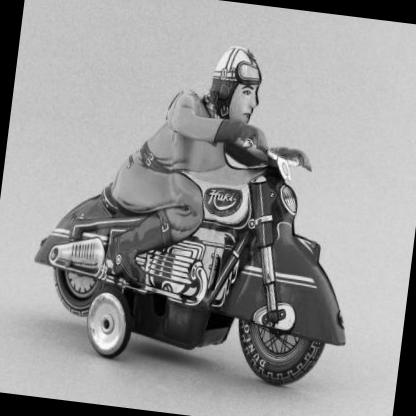moto: (8, 104, 373, 400)
